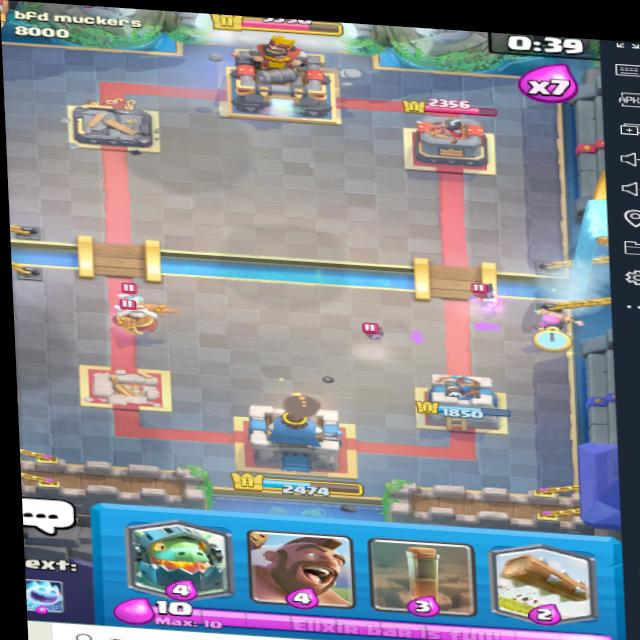bats: (350, 318, 397, 342), (470, 282, 505, 305)
ice-spirit: (108, 288, 157, 308)
monk: (97, 294, 178, 341)
